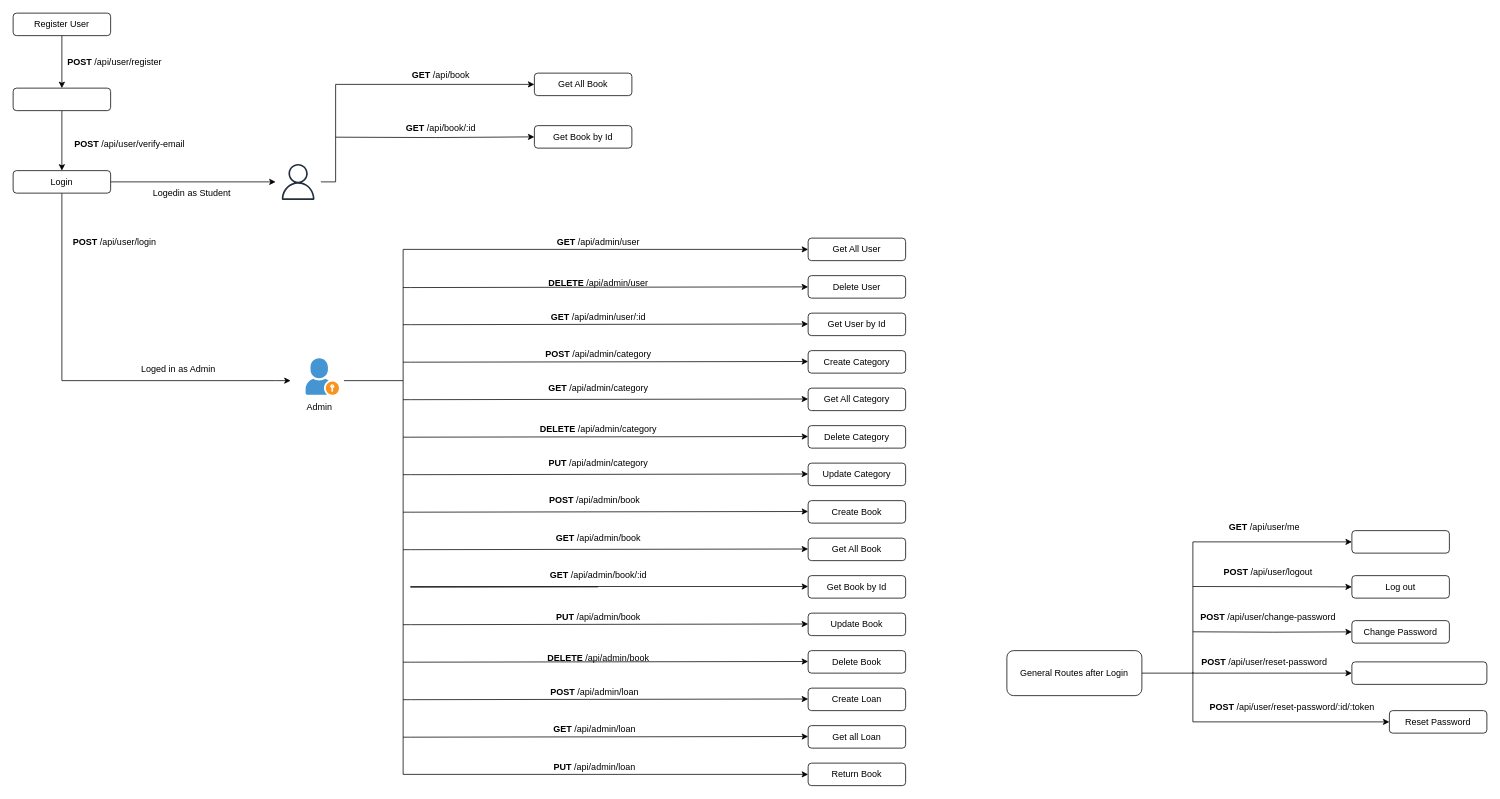
Image size: 1500x799. Some labels were removed from this diagram. Each missing label, with the box of its shape:
Profile access: (1351, 530, 1449, 553)
Send Reset Password Link: (1351, 661, 1487, 684)
User: (275, 159, 321, 204)
Verify Email: (12, 87, 111, 111)
